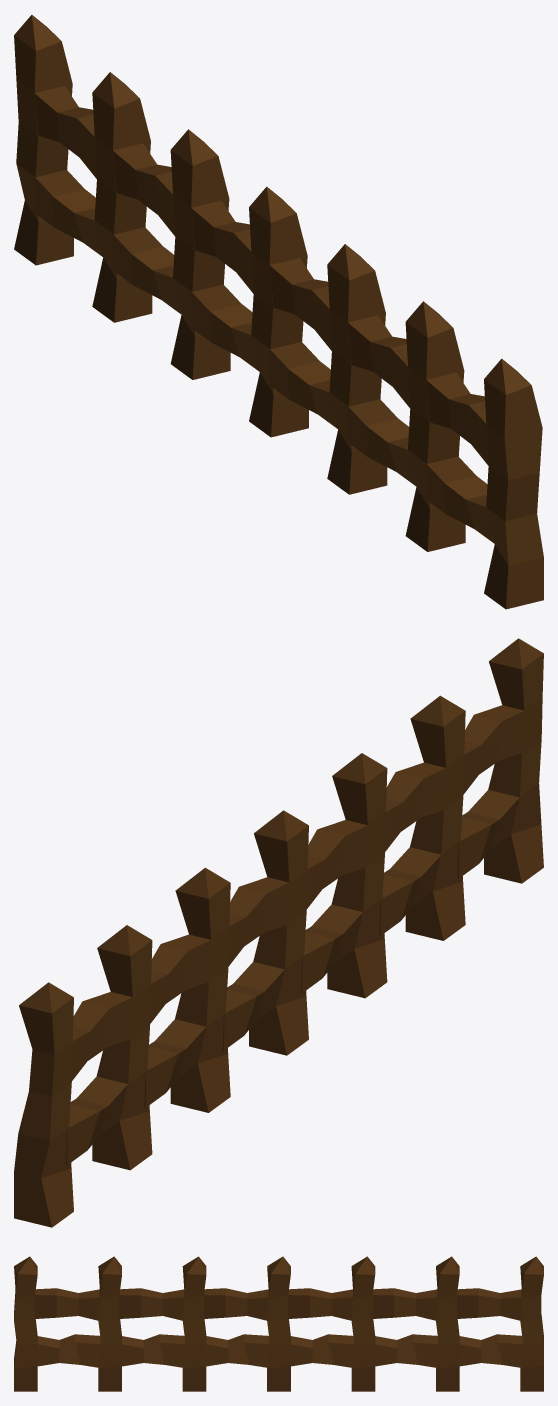
File: fence_7.fbx
The picture shows the model from 3 angles, top to bottom: view 1: azimuth 30°, elevation 25°; view 2: azimuth 150°, elevation 25°; view 3: azimuth 270°, elevation 25°; orthographic projection. The views are drawn at different scales.
Visible parts, largest first — view 1: Cube; view 2: Cube; view 3: Cube.
Boxes of the visible parts, x1=… form: Cube: x1=14, y1=15, x2=543, y2=609; Cube: x1=14, y1=638, x2=543, y2=1227; Cube: x1=14, y1=1256, x2=543, y2=1391.
Size of the model in its own units: 60.8 by 325 by 1221.
